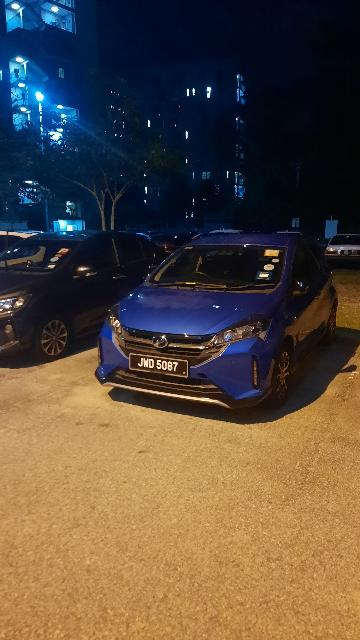License_Plate: (127, 352, 189, 382)
car: (95, 228, 340, 416), (1, 232, 173, 364)
